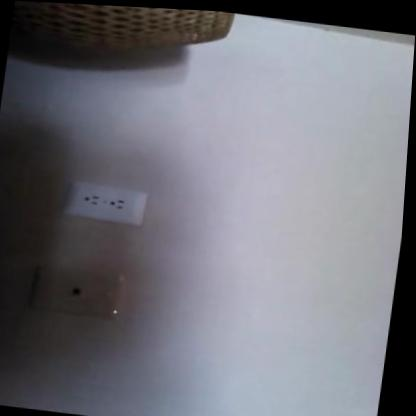OUTLET: (64, 180, 149, 227)
